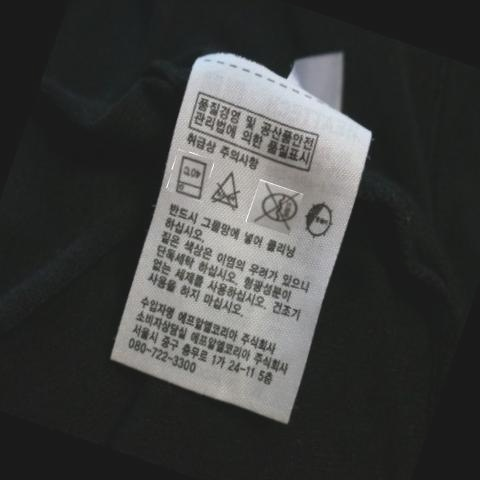40C: (170, 155, 212, 202)
DN_dry_clean: (256, 183, 303, 231)
line_dry_in_shade: (300, 196, 339, 242)
non_chlorine_bleach: (209, 168, 250, 213)
